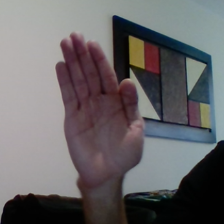left: (50, 32, 153, 184)
